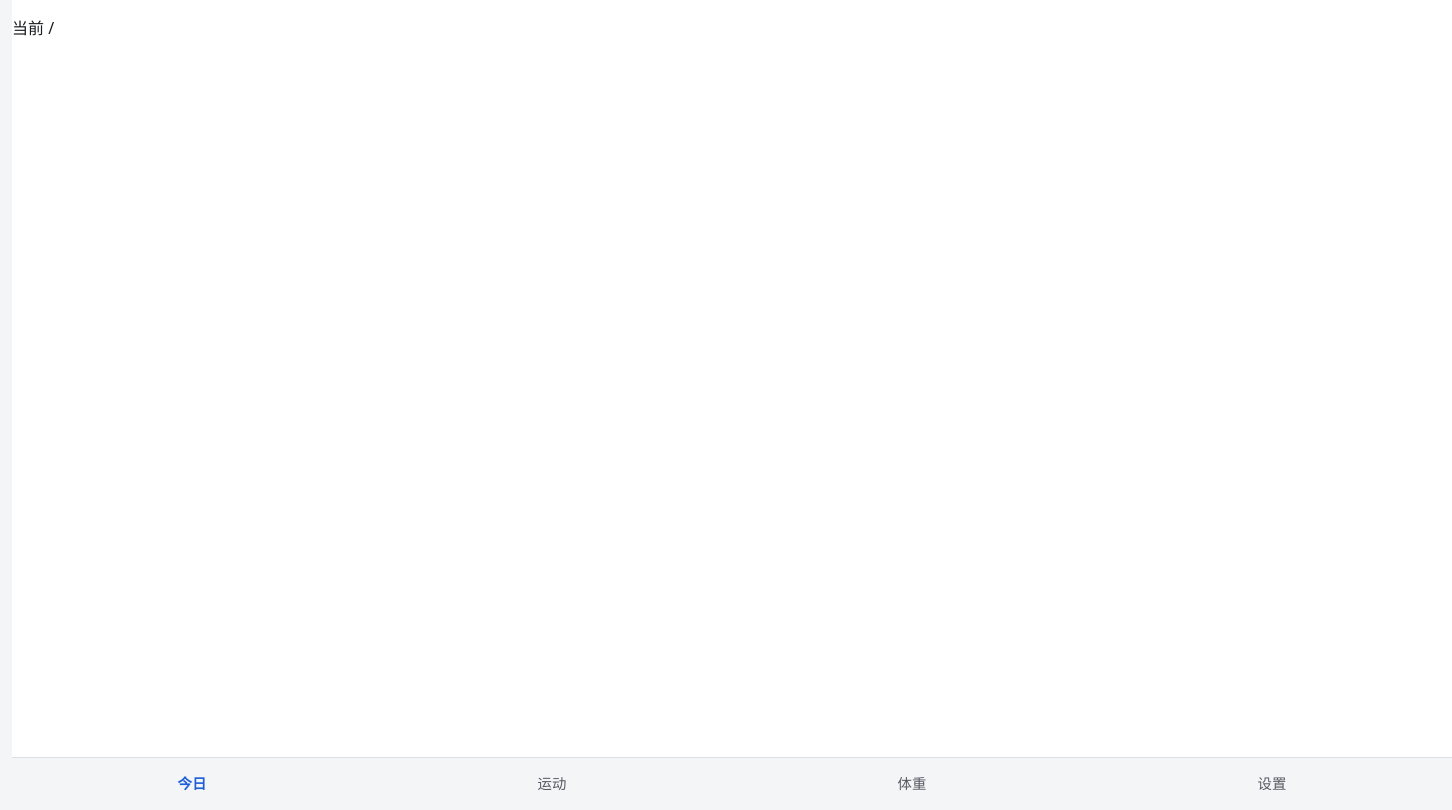
底部导航 › 点击导航切换页面
Step 1. Click the link "设置" → (1272, 784), box [1258, 774, 1286, 794]
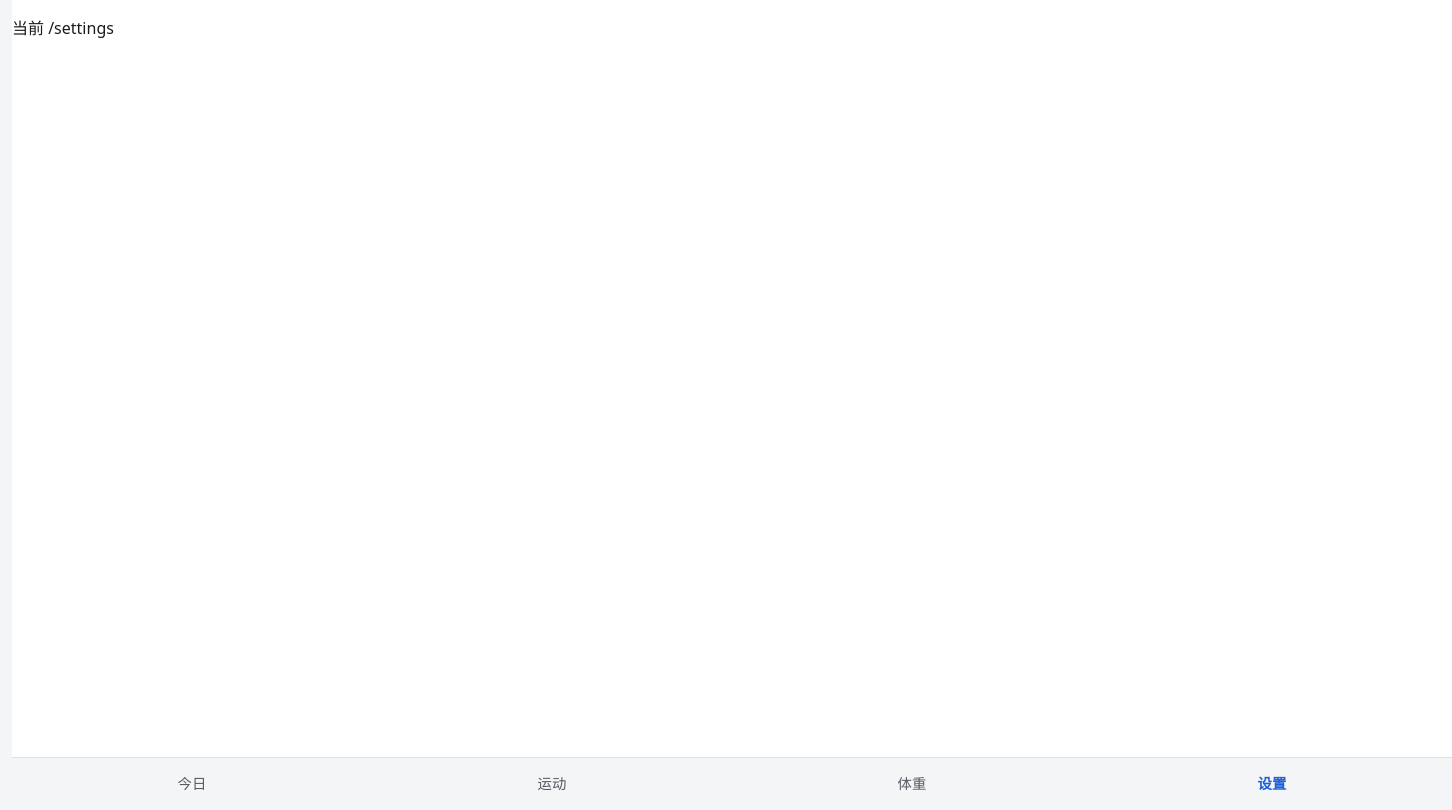
Check: the text "当前 /settings" is shown, box [12, 17, 114, 39]
